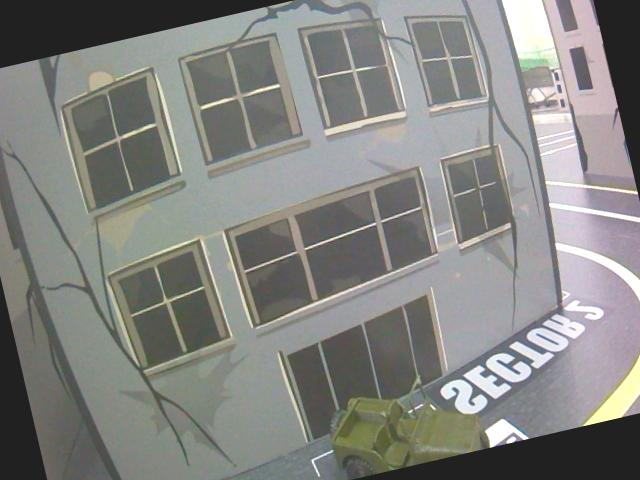Car: (318, 360, 491, 480)
